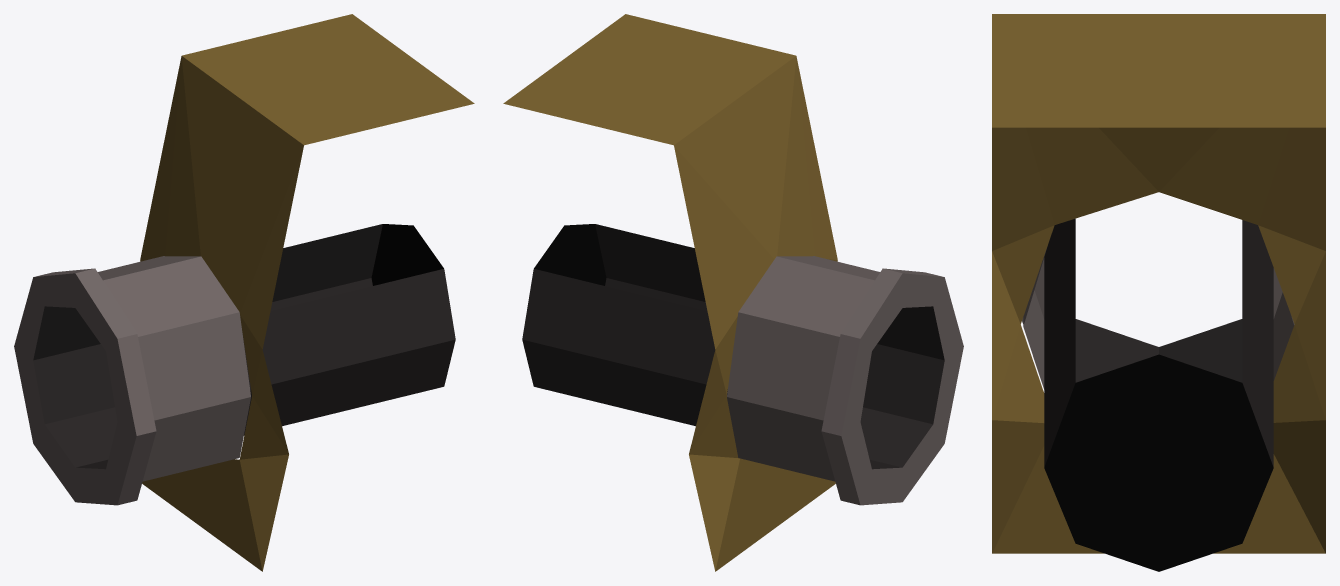
The model's file is obj_sewer_pipe_2_0.obj.
3 renders of one model, left to right at view 1: azimuth 30°, elevation 25°; view 2: azimuth 150°, elevation 25°; view 3: azimuth 270°, elevation 25°, orthographic. The views are drawn at different scales.
Size of the model in its own units: 1.59 by 1.88 by 1.
